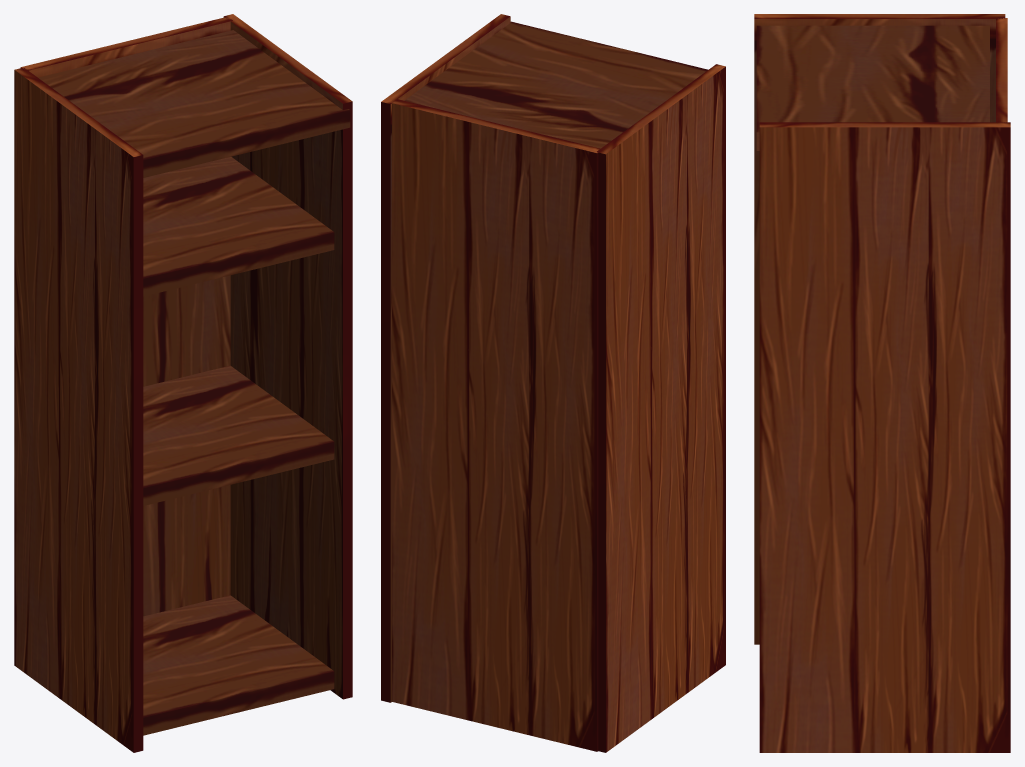
File: Estante.fbx
3 views of the same model, side by side, from view 1: azimuth 30°, elevation 25°; view 2: azimuth 150°, elevation 25°; view 3: azimuth 270°, elevation 25° (orthographic). The views are drawn at different scales.
Visible parts, largest first — view 1: Cube; view 2: Cube; view 3: Cube.
Part boxes in pixels (<box>): Cube: <box>14,14,352,752</box>; Cube: <box>381,14,725,752</box>; Cube: <box>754,14,1010,752</box>.
Bounding box in the file's own units: 64.67 × 166 × 61.72.
